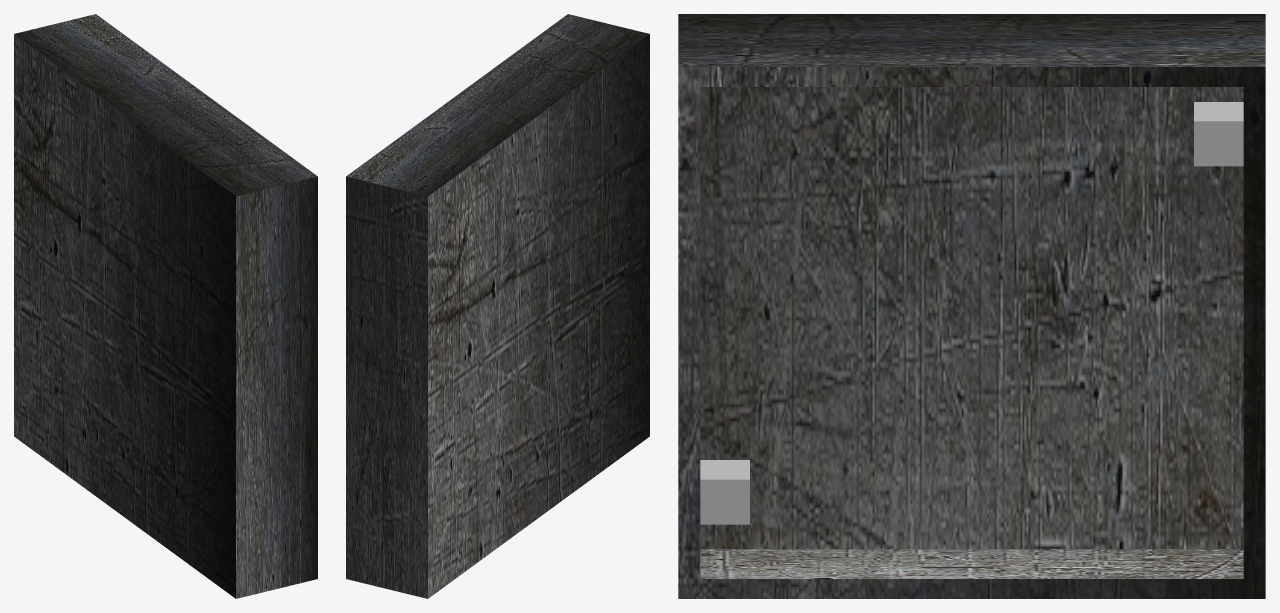
File: ElectricBox1.fbx
3 renders of one model, left to right at view 1: azimuth 30°, elevation 25°; view 2: azimuth 150°, elevation 25°; view 3: azimuth 270°, elevation 25°, orthographic. The views are drawn at different scales.
Parts seen in each view (by area): view 1: Cube; view 2: Cube; view 3: Cube, Cube.001.
Boxes of the visible parts, bbox=[...] form: Cube: bbox=[14, 14, 317, 598]; Cube: bbox=[346, 14, 649, 598]; Cube: bbox=[678, 14, 1265, 598]; Cube.001: bbox=[700, 102, 1243, 524].
Bounding box in the file's own units: 42.62 × 200 × 200.
